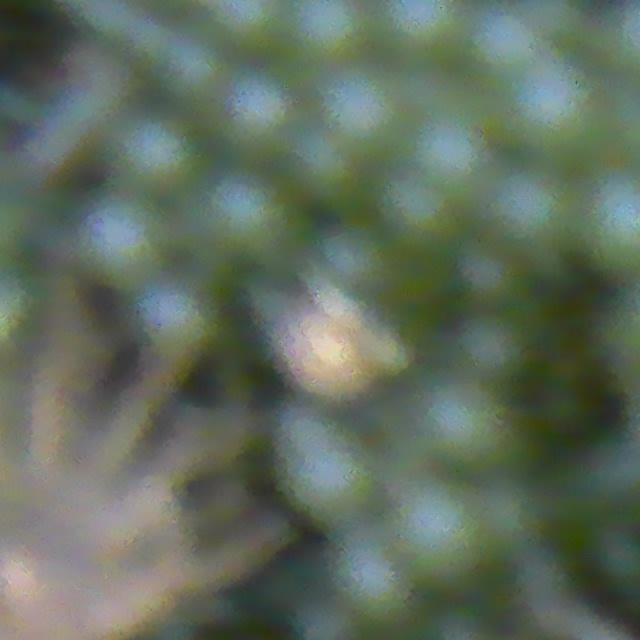SeaGrape: (398, 481, 493, 590), (283, 438, 395, 528), (509, 61, 604, 165), (411, 382, 519, 470), (202, 178, 296, 268), (75, 202, 165, 294), (311, 218, 400, 303), (132, 277, 219, 361), (411, 121, 496, 202), (114, 115, 200, 194), (494, 177, 576, 259), (288, 127, 368, 210), (221, 75, 298, 160), (327, 72, 403, 156), (377, 176, 452, 256), (454, 309, 530, 383), (377, 0, 465, 62), (454, 241, 526, 316), (583, 184, 640, 274), (469, 6, 541, 76), (335, 550, 403, 623), (288, 0, 363, 66), (163, 48, 228, 114), (215, 0, 282, 54), (294, 597, 356, 640)
